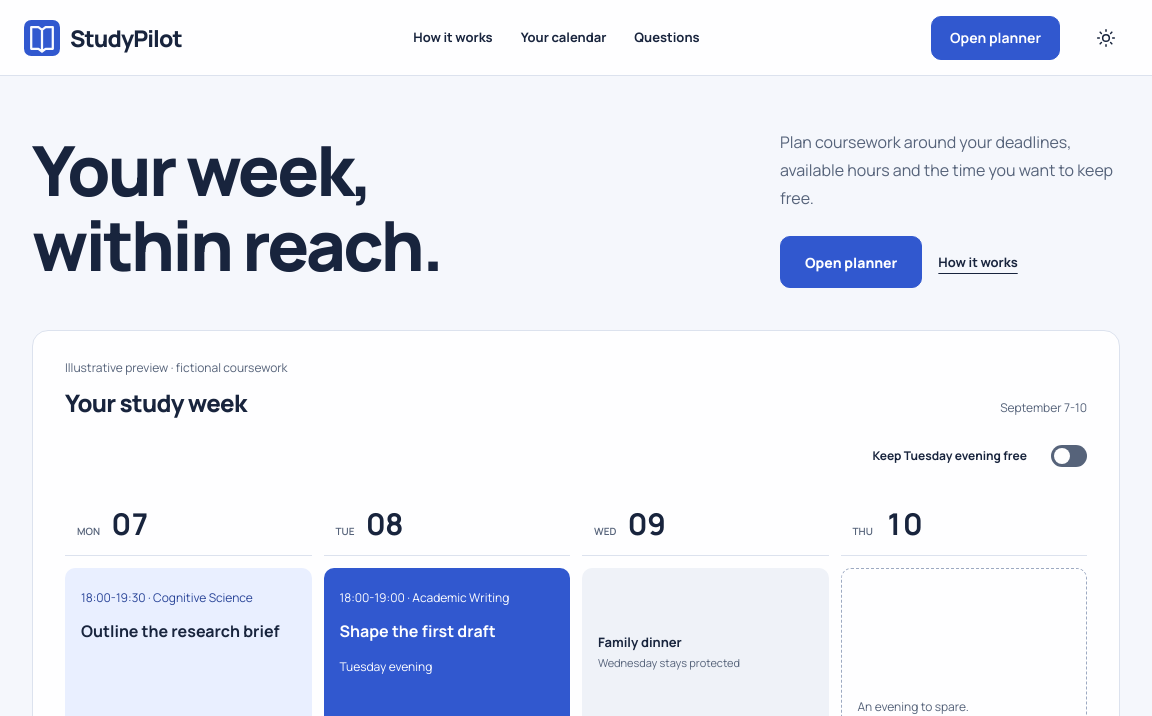
StudyPilot › identifies external inference without claiming Bedrock access or offline processing
Click the button "Open planner" in the row of "Questions": (996, 38) x1=931 y1=16 x2=1060 y2=60
(page scrolled)
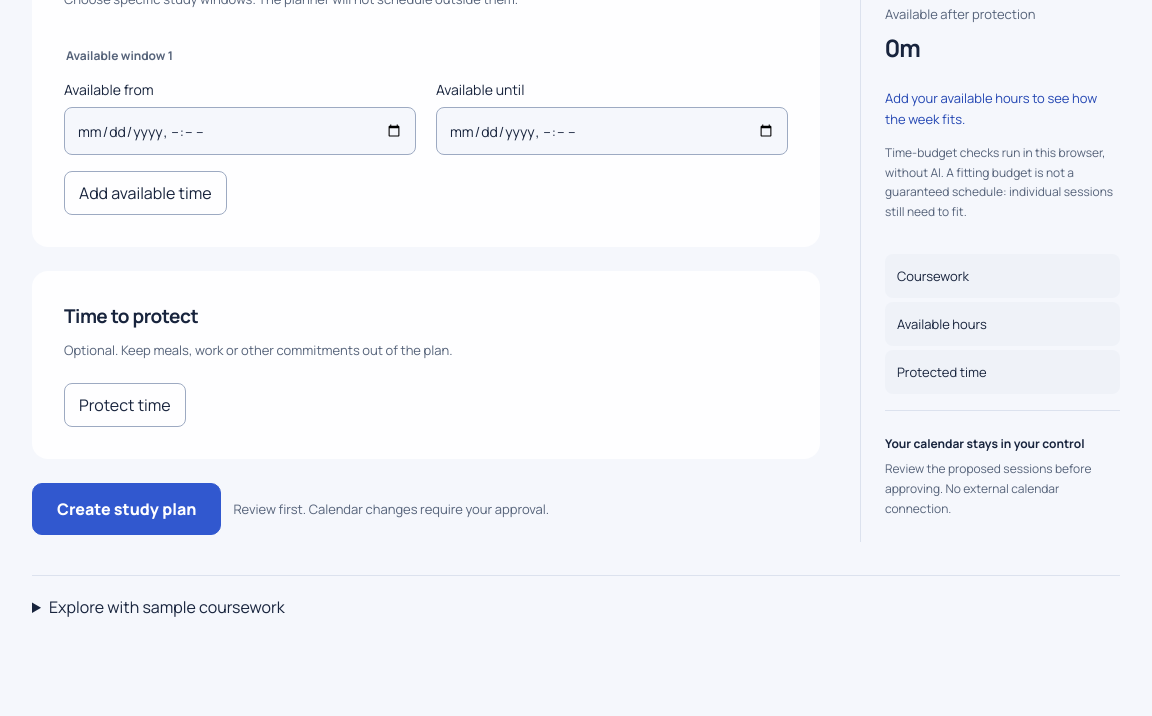
Click the heading "Explore with sample coursework": (167, 607) x1=49 y1=596 x2=285 y2=618
(page scrolled)
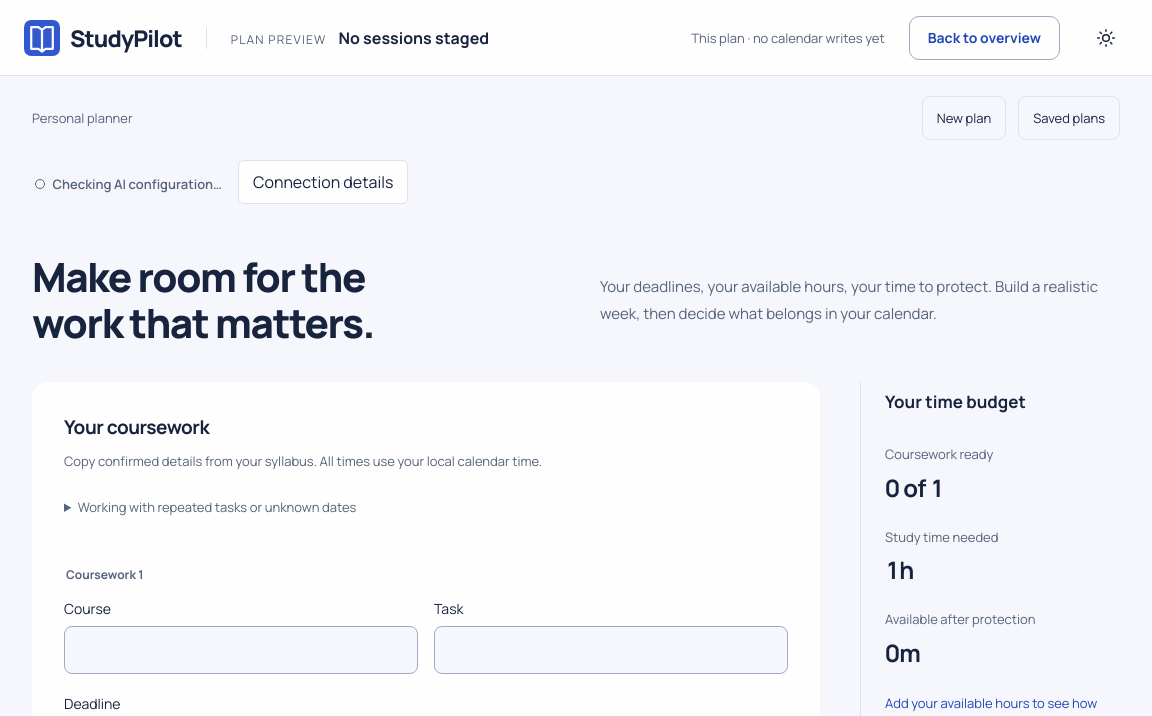
Click the button "Connection details": (323, 182) x1=238 y1=160 x2=408 y2=204
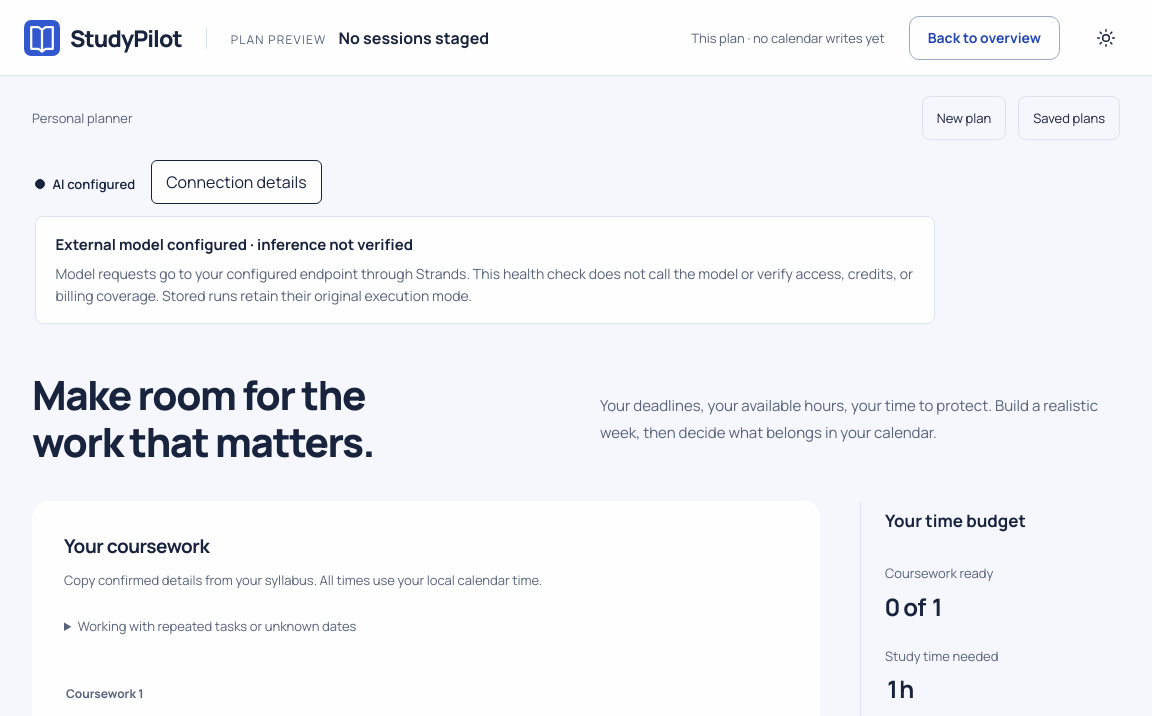
expect the text "External model configured · inference not verified" is shown: met, box x1=56 y1=234 x2=413 y2=255
expect the text "Model requests go to your configured endpoint" is shown: met, box x1=56 y1=264 x2=913 y2=305
